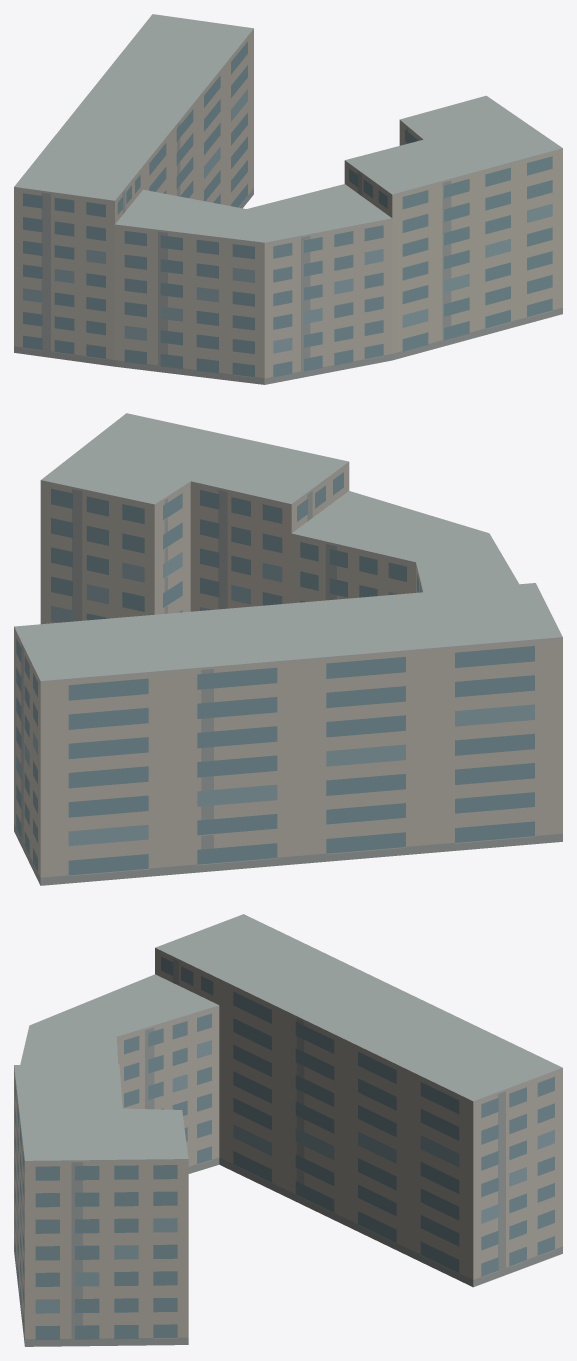
Rendered from residential-ca7cea21-761b-4825-834f-e14dbb562d0d.glb.
3 views of the same model, one above another, from view 1: azimuth 30°, elevation 25°; view 2: azimuth 150°, elevation 25°; view 3: azimuth 270°, elevation 25° (orthographic). The views are drawn at different scales.
Parts seen in each view (by area): view 1: residential-ca7cea21-761b-4825-834f-e14dbb562d0d.tmp; view 2: residential-ca7cea21-761b-4825-834f-e14dbb562d0d.tmp; view 3: residential-ca7cea21-761b-4825-834f-e14dbb562d0d.tmp.
Part boxes in pixels (left/top/right/bottom): residential-ca7cea21-761b-4825-834f-e14dbb562d0d.tmp: left=14, top=14, right=562, bottom=384; residential-ca7cea21-761b-4825-834f-e14dbb562d0d.tmp: left=14, top=413, right=562, bottom=885; residential-ca7cea21-761b-4825-834f-e14dbb562d0d.tmp: left=14, top=914, right=562, bottom=1346.
Size of the model in its own units: 60.78 by 21.35 by 57.12.
